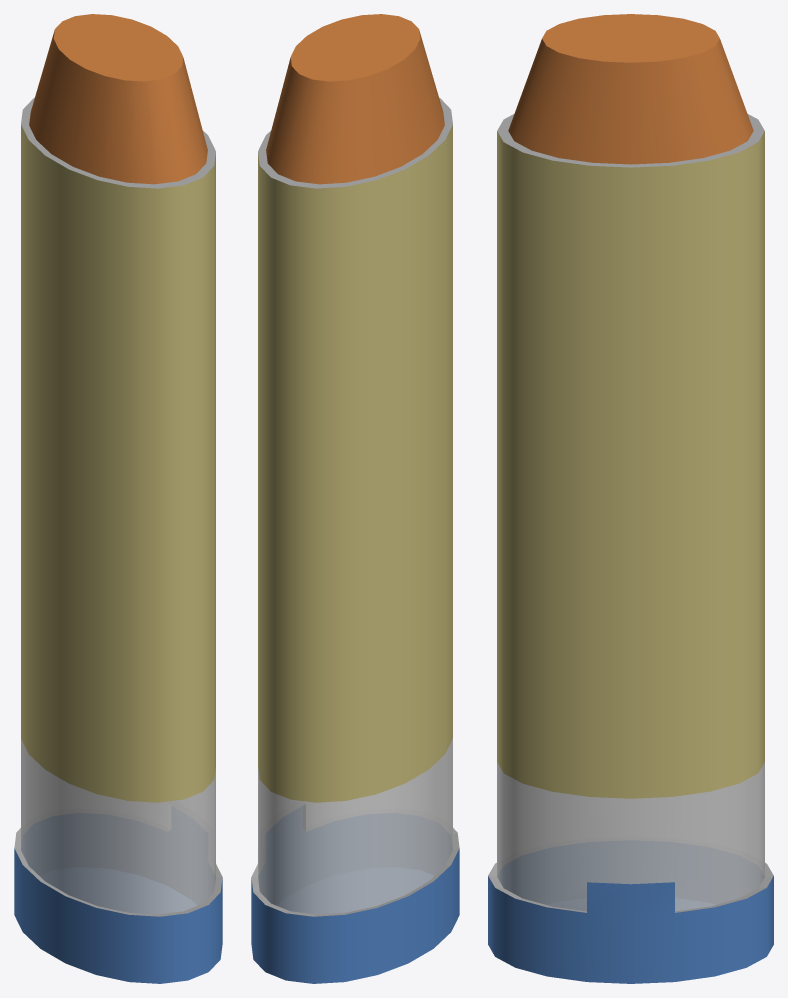
The model's file is epipen.fbx.
3 views of the same model, side by side, from view 1: azimuth 30°, elevation 25°; view 2: azimuth 150°, elevation 25°; view 3: azimuth 270°, elevation 25° (orthographic). The views are drawn at different scales.
Parts seen in each view (by area): view 1: pCylinder1; view 2: pCylinder1; view 3: pCylinder1.
Boxes of the visible parts, box(x1,y1,x2,y2) form: pCylinder1: box(14, 14, 222, 983); pCylinder1: box(251, 14, 459, 983); pCylinder1: box(488, 14, 773, 983).
Size of the model in its own units: 1.39 by 7.47 by 2.13.
